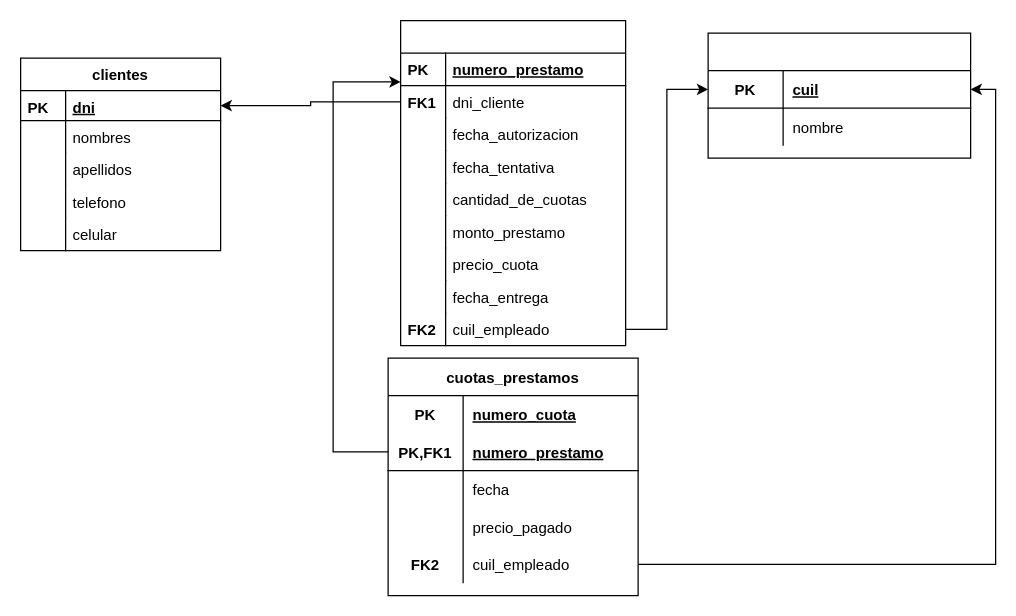
Some shapes in this 1016 by 616 pixel diagram are drawn without their labels. Each missing label, with the box of its shape:
empleados: (707, 32, 971, 158)
prestamos: (399, 19, 626, 346)
